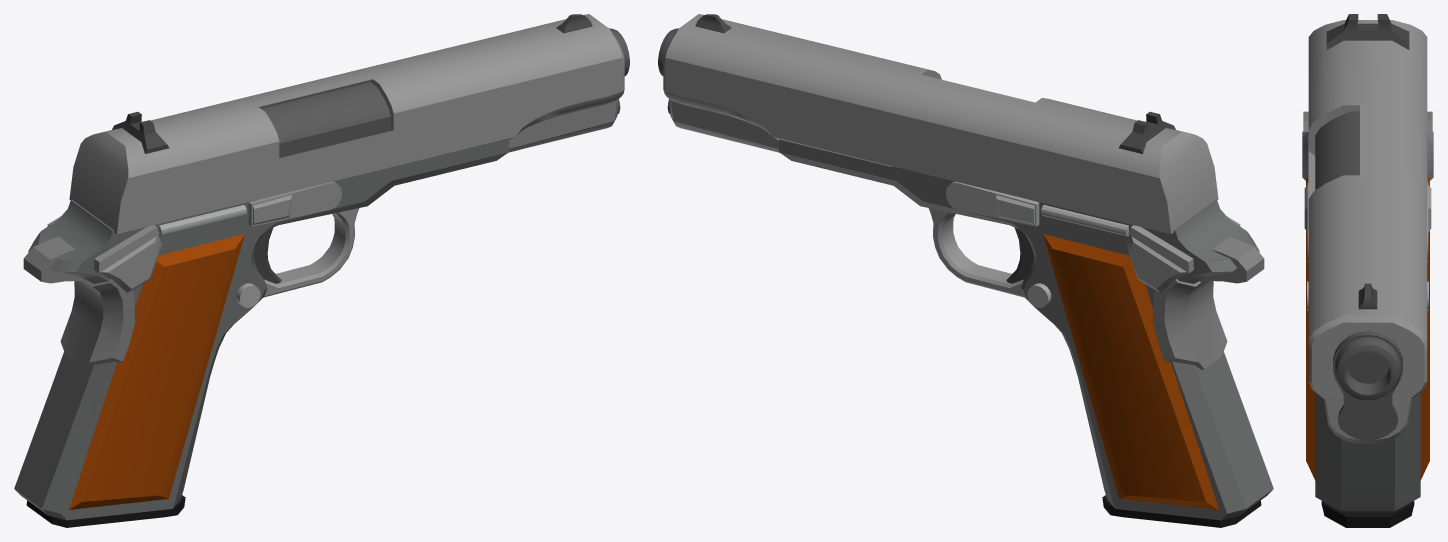
File: Government_Mesh.fbx
3 views of the same model, side by side, from view 1: azimuth 30°, elevation 25°; view 2: azimuth 150°, elevation 25°; view 3: azimuth 270°, elevation 25° (orthographic). The views are drawn at different scales.
Parts seen in each view (by area): view 1: Government; view 2: Government; view 3: Government.
Part boxes in pixels (<box>): Government: <box>14,14,629,527</box>; Government: <box>658,14,1273,527</box>; Government: <box>1302,14,1433,527</box>.
Size of the model in its own units: 0.3268 by 0.2065 by 0.0502.
